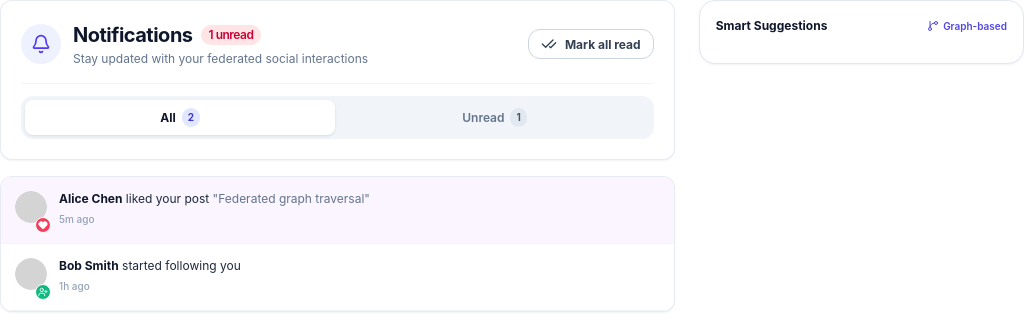
Test case: NotificationsPage Component › filters notifications by unread tab
Expected: the button with test id "notification-item-notif-1" is shown, top-left (1, 177), bottom-right (674, 244)
Expected: the button with test id "notification-item-notif-2" is shown, top-left (1, 244), bottom-right (674, 311)
Click the tab with test id "tab-unread". click: (494, 118)
box: top-left (339, 100), bottom-right (650, 135)
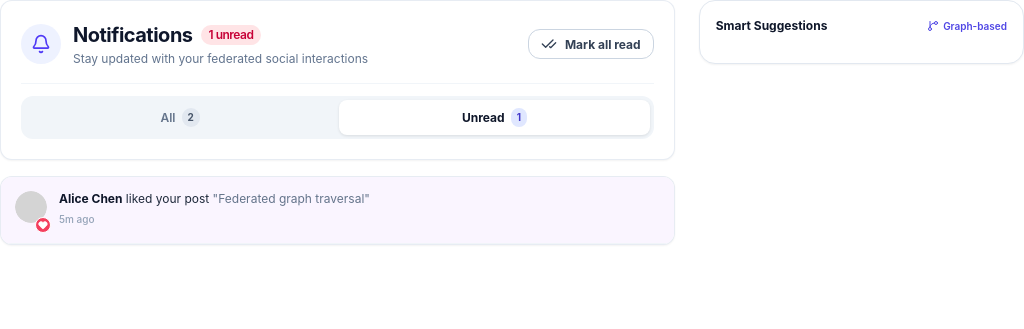
Expected: the button with test id "notification-item-notif-1" is shown, top-left (1, 177), bottom-right (674, 244)
Now the button with test id "notification-item-notif-2" is gone
